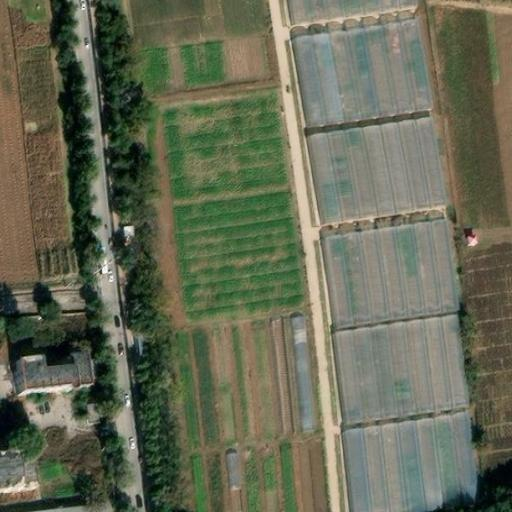building: (288, 315, 316, 427), (13, 357, 83, 395), (0, 448, 28, 487), (3, 499, 86, 512), (117, 218, 136, 238)
